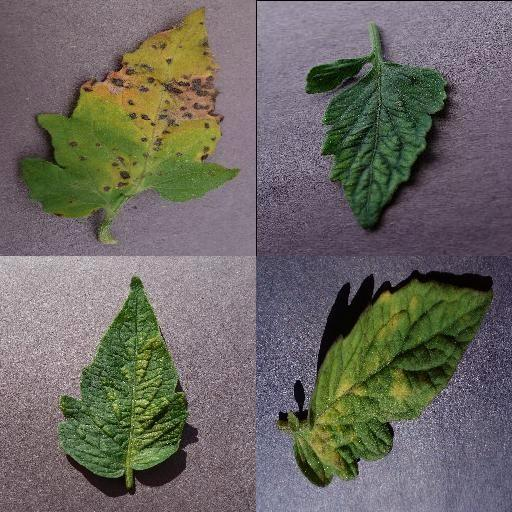Leaf Mold: (295, 277, 496, 487)
Mosaic Virus: (304, 55, 450, 232)
Septoria: (22, 6, 241, 220)
Spider Mites: (58, 275, 188, 479)
